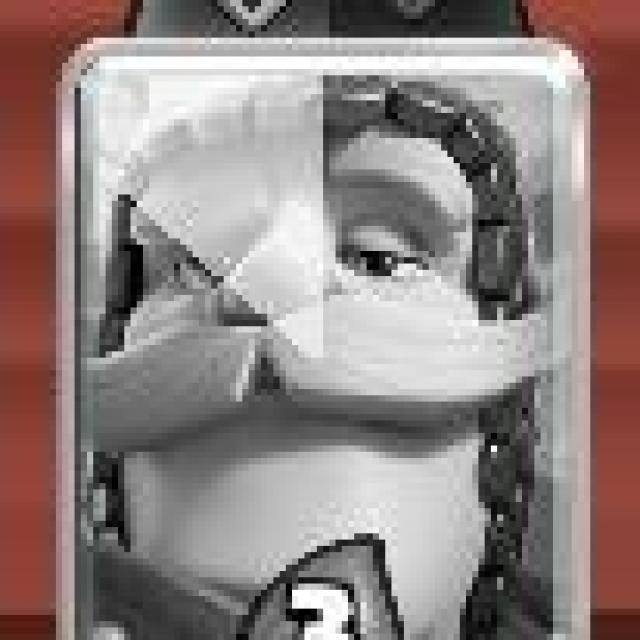Knight: (56, 35, 584, 640)
